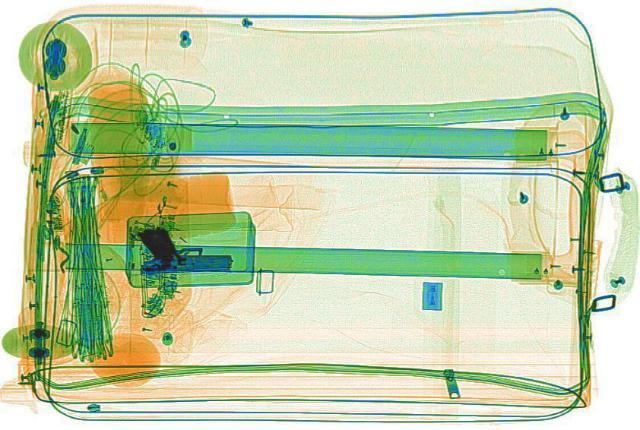Gun: (136, 223, 230, 271)
